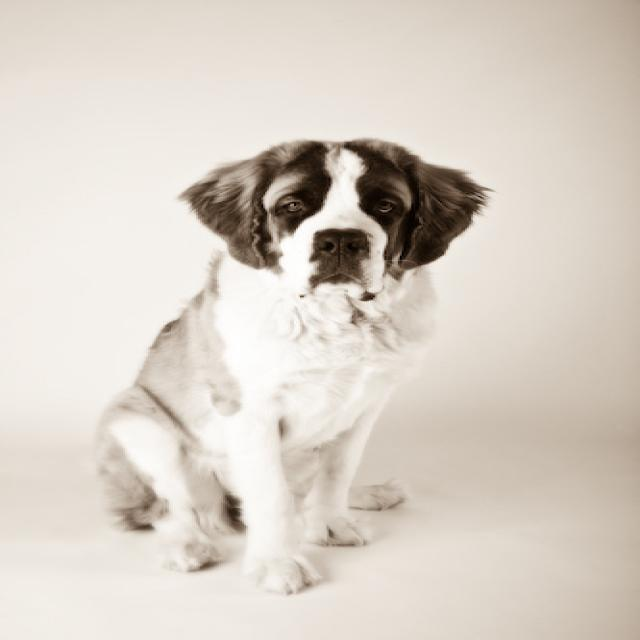dog-saint_bernard: (81, 123, 498, 604)
